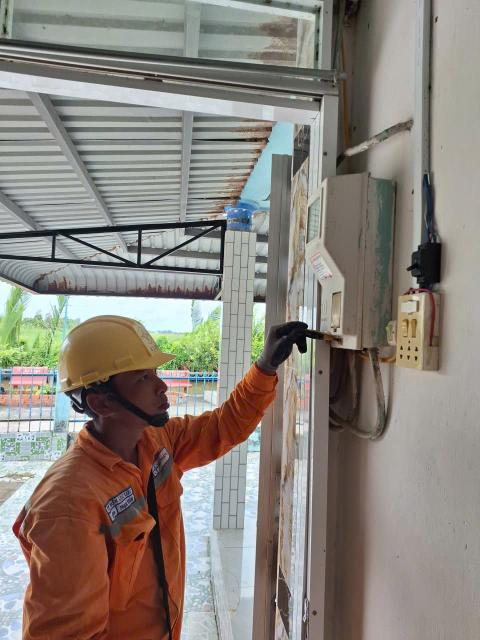gloves: (244, 313, 324, 388)
helmet: (50, 308, 175, 402)
